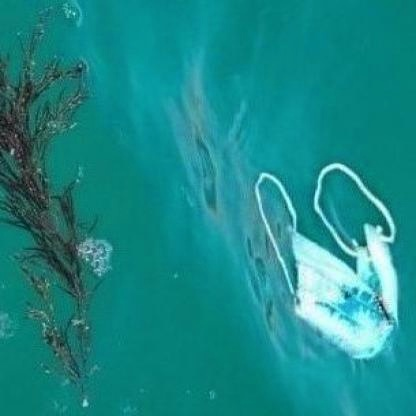Mask: (248, 164, 409, 366)
